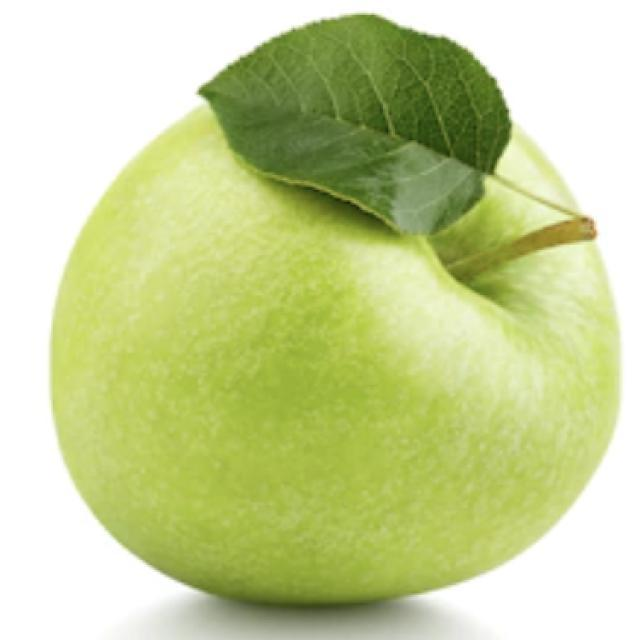Apple: (48, 12, 622, 608)
